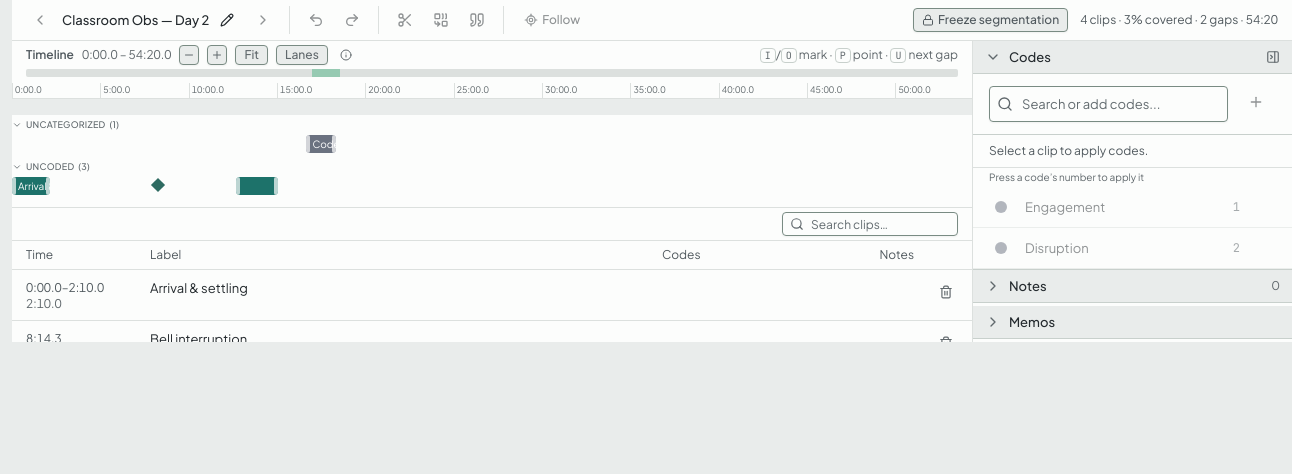
Test: #654 — the clip-row context menu › right-clicking an UNSELECTED row selects it and offers every action
The width and height of the screenshot is (1292, 474).
Right-click the option "0:00.0–2:10.02:10.0 Arrival & settling".
right_click(65, 288)  # box top-left (12, 270), bottom-right (972, 321)
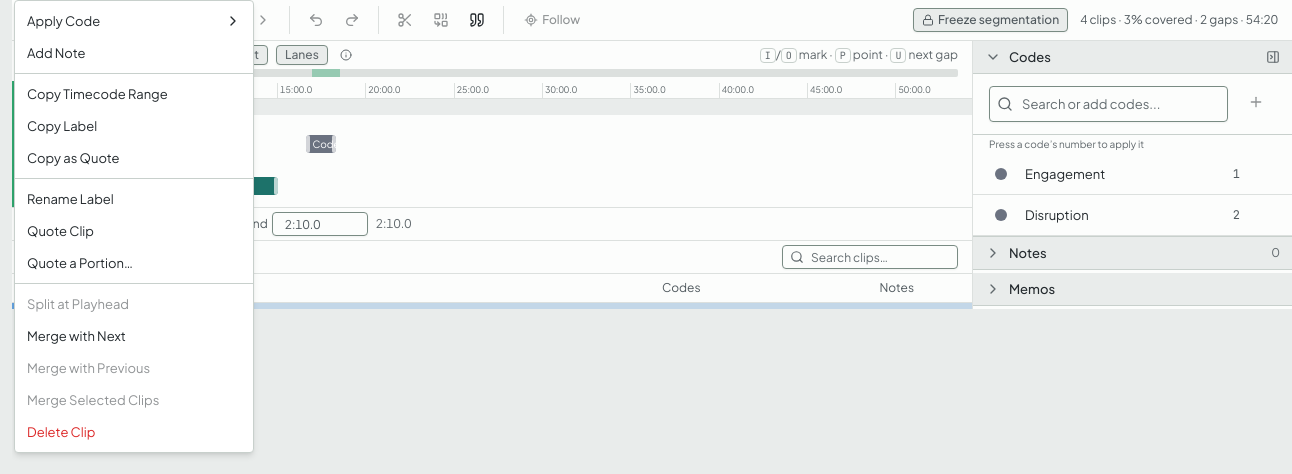
Result: the menu item "Add Note" is shown at top-left (27, 45), bottom-right (86, 61)
Result: the menu item "Rename Label" is shown at top-left (27, 191), bottom-right (114, 207)
Result: the menu item "Quote Clip" is shown at top-left (27, 223), bottom-right (94, 239)
